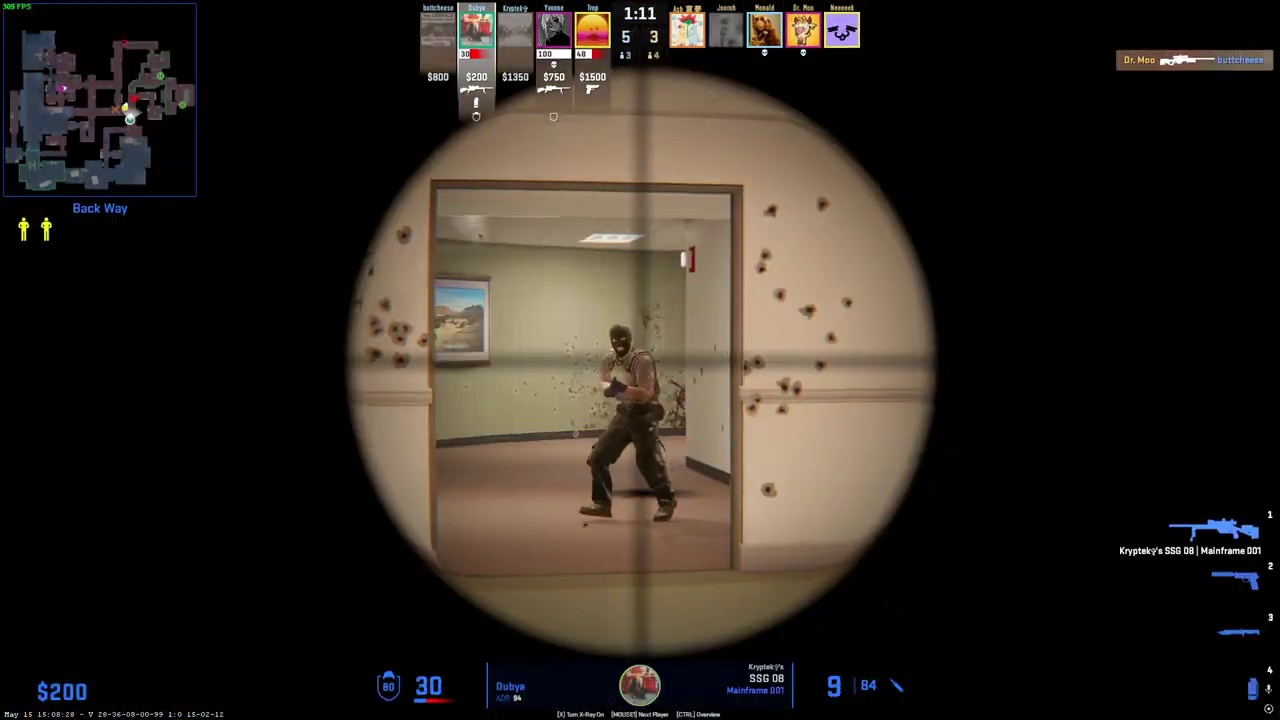Terrorist: (586, 324, 676, 522)
